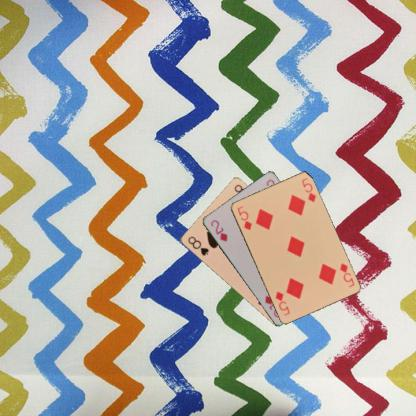2d: (208, 217, 229, 243)
5d: (235, 203, 253, 231), (337, 260, 355, 288)
8s: (185, 234, 210, 257)
